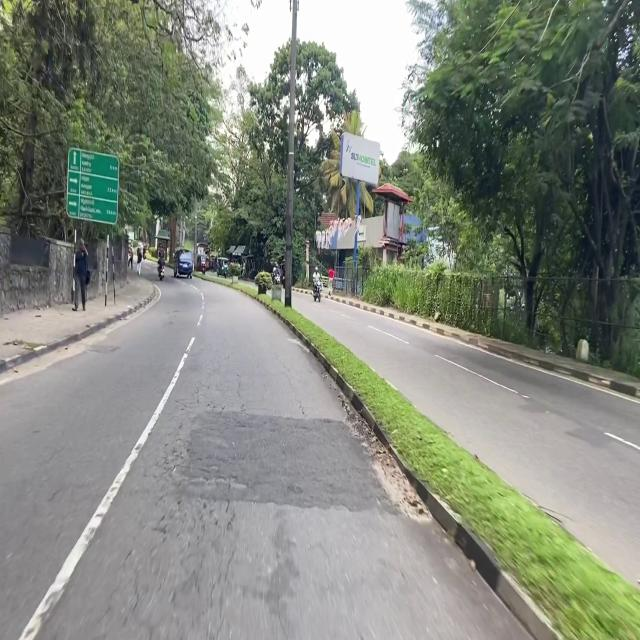motorcycle: (313, 279, 321, 302), (158, 265, 164, 280)
person: (73, 238, 87, 311), (328, 266, 334, 295), (137, 247, 142, 275), (128, 244, 133, 270), (313, 267, 320, 284), (158, 256, 164, 271)
three wheeler: (217, 258, 229, 277), (197, 253, 206, 275)
van: (174, 248, 194, 277)
